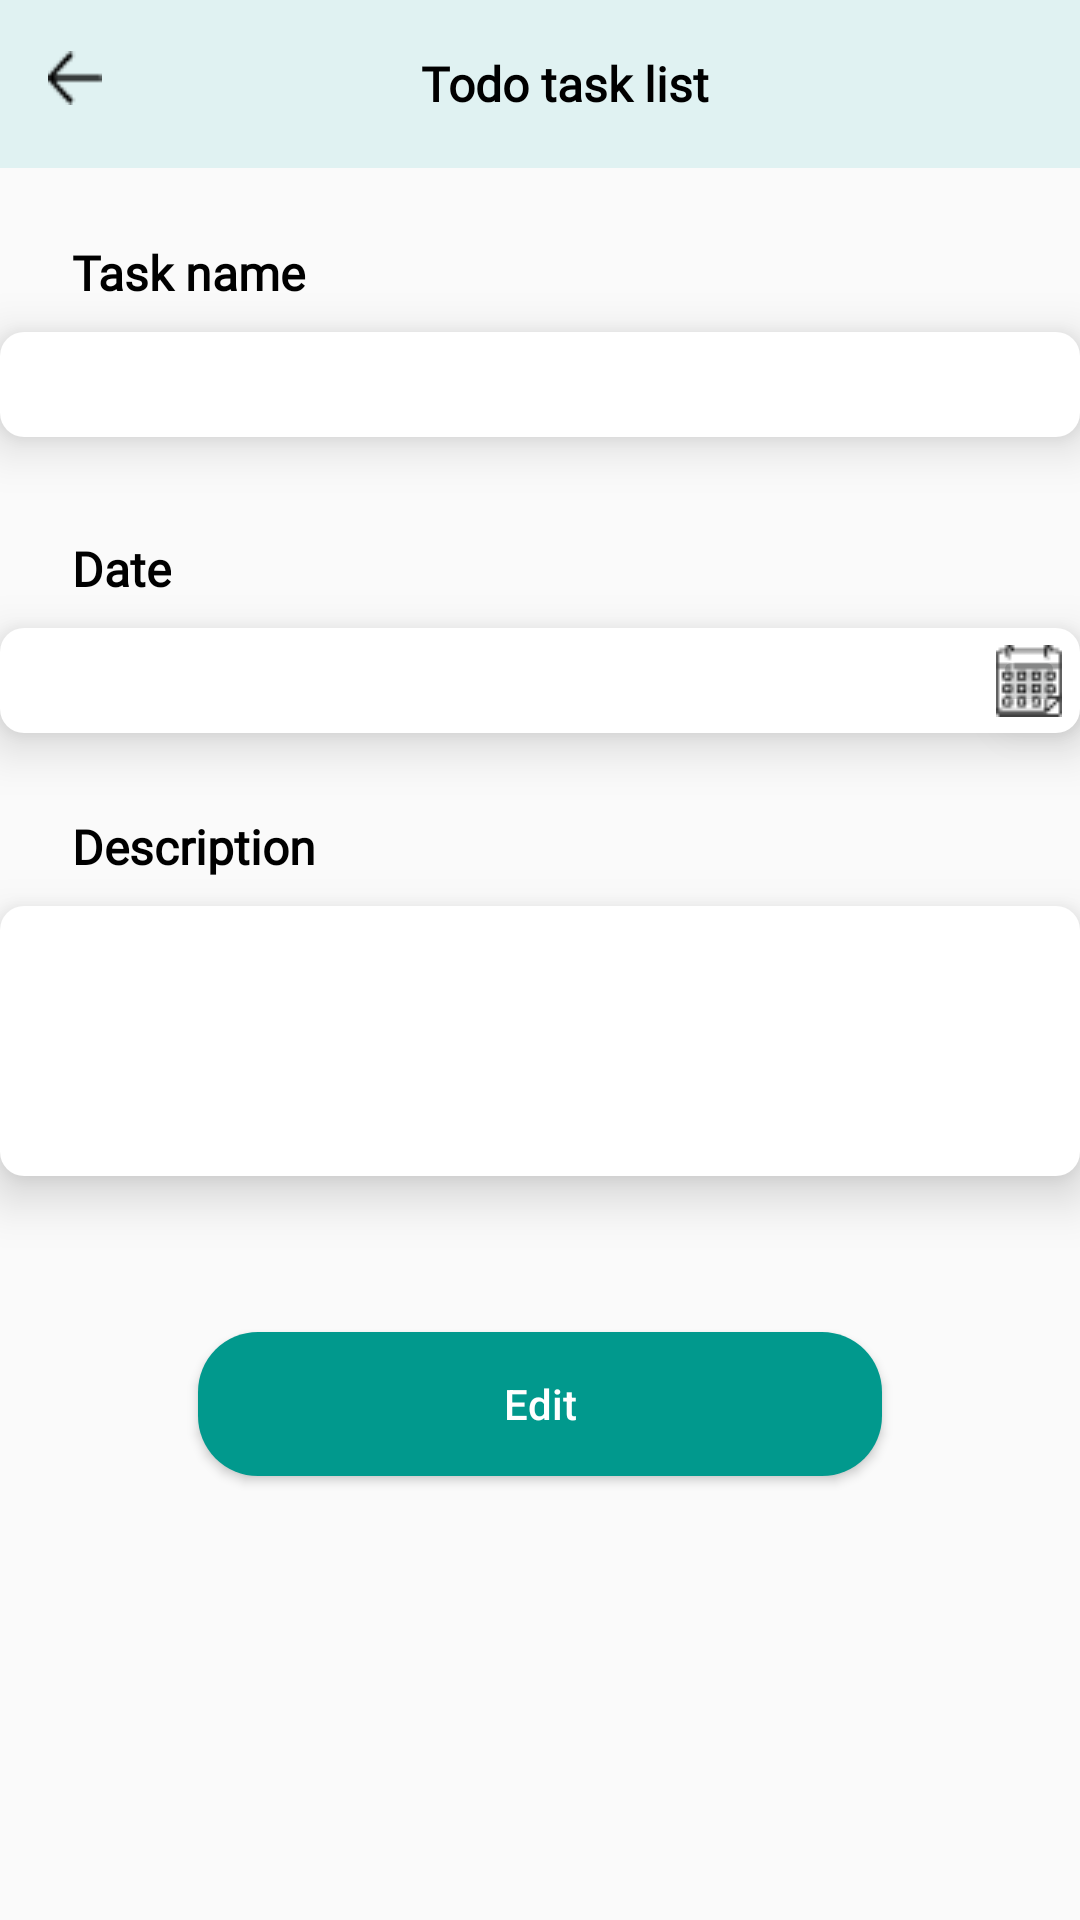

Named icons in this screenshot (1080*1920) and their bounding boxes, (x1, y1, x2, y2):
back: (48, 51, 102, 105)
calendar: (996, 645, 1062, 717)
